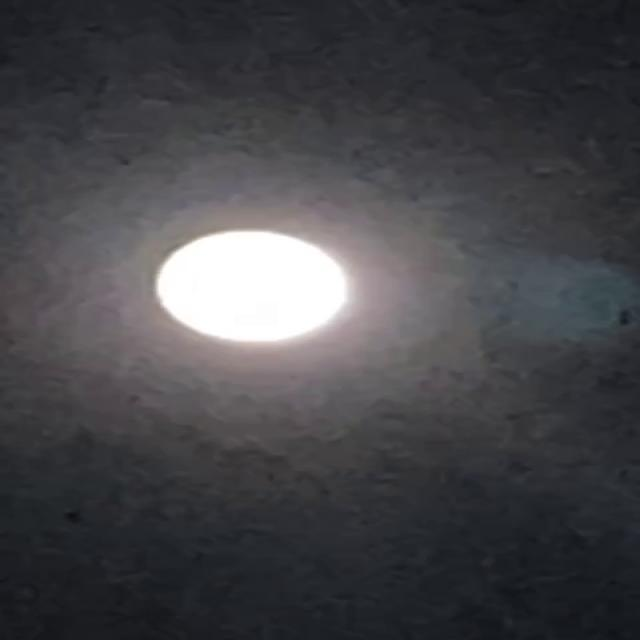moon: (123, 225, 350, 346)
